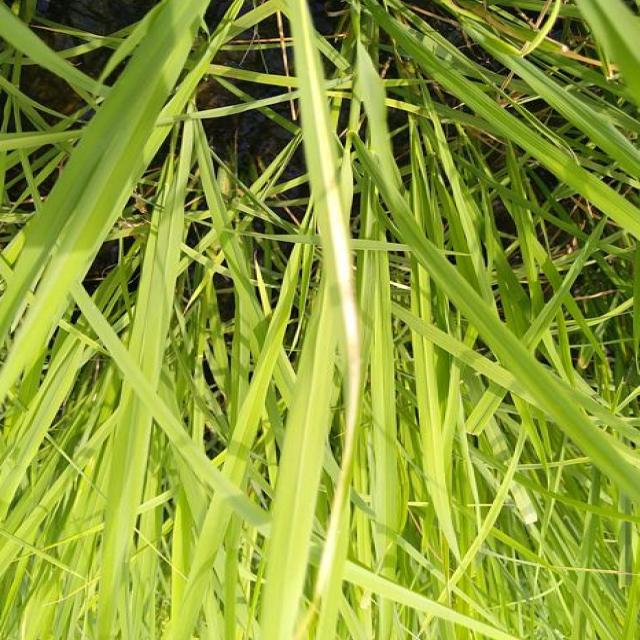Leaf Blight: (297, 0, 360, 599)
